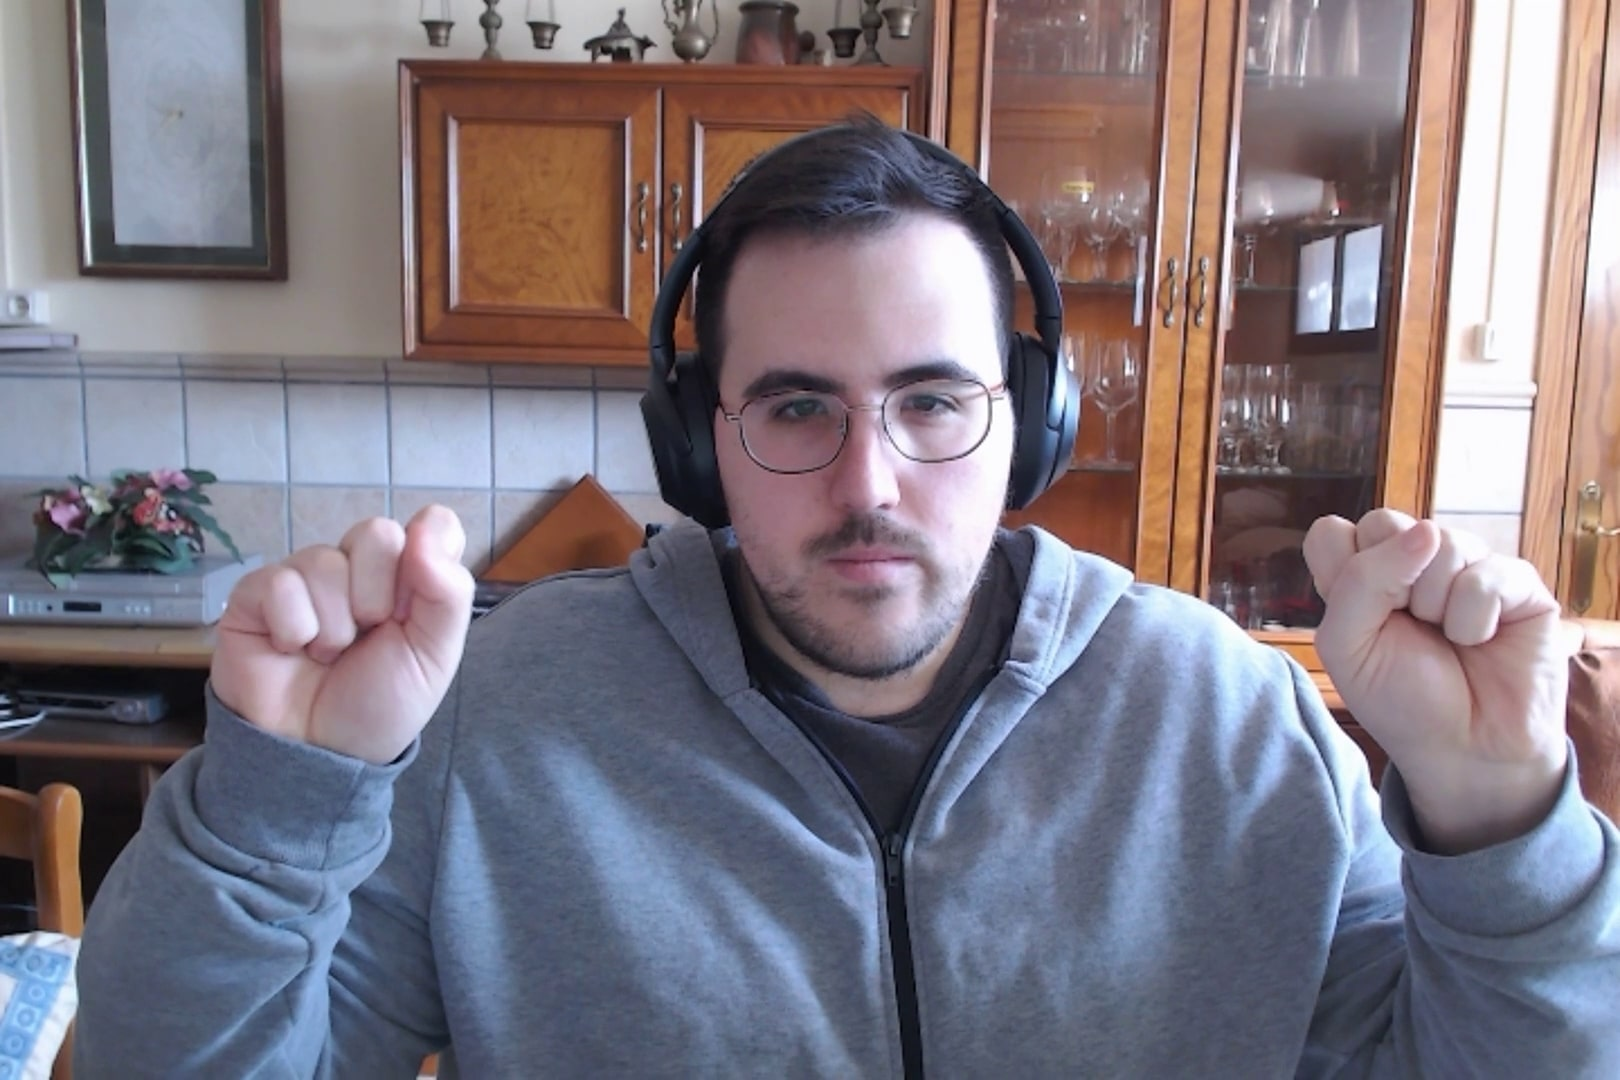hand: (1284, 500, 1583, 791), (205, 502, 482, 773)
